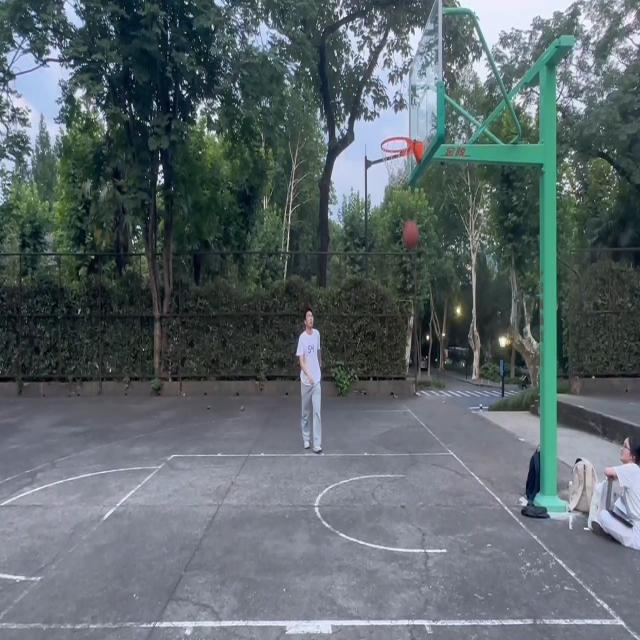basketball: (381, 137, 424, 191)
rim: (404, 222, 420, 249)
